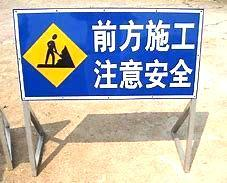sign: (16, 12, 199, 98)
